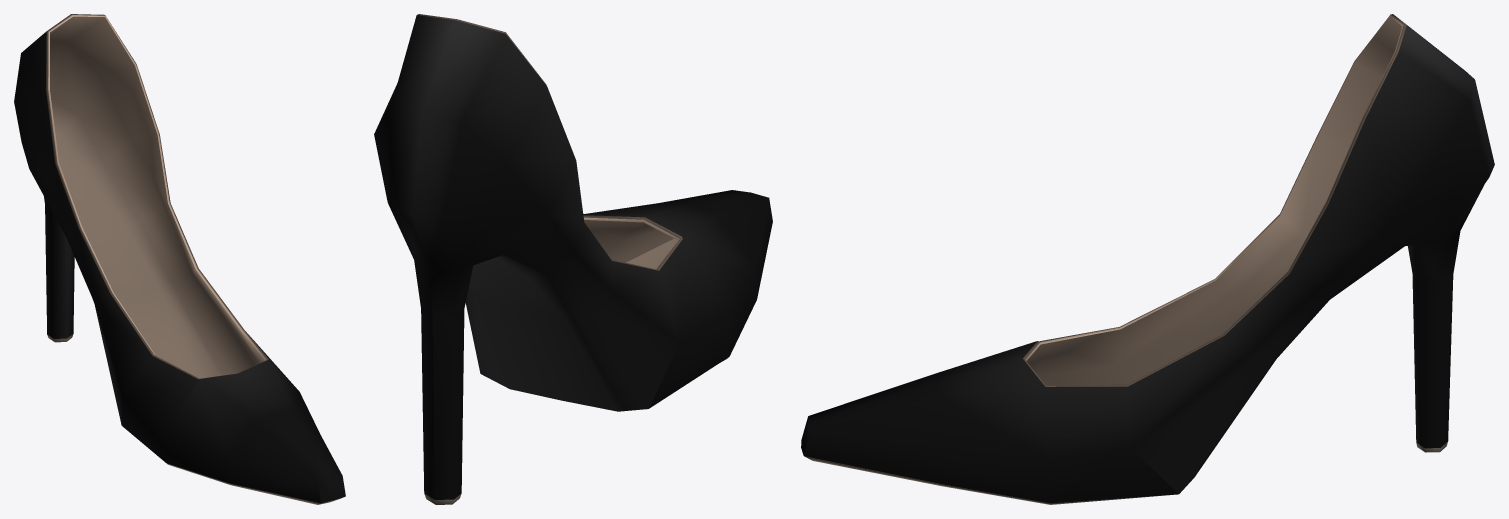
The model's file is human-clothing-high-heel_v1.fbx.
The picture shows the model from 3 angles, left to right: view 1: azimuth 30°, elevation 25°; view 2: azimuth 150°, elevation 25°; view 3: azimuth 270°, elevation 25°; orthographic projection. The views are drawn at different scales.
Parts seen in each view (by area): view 1: High Heel; view 2: High Heel; view 3: High Heel.
Part boxes in pixels (<box>): High Heel: <box>14,14,345,504</box>; High Heel: <box>374,14,772,504</box>; High Heel: <box>801,14,1494,504</box>.
Size of the model in its own units: 0.0759 by 0.1702 by 0.25.
